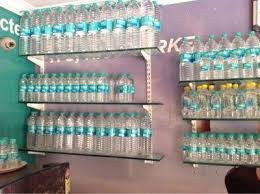Bisleri: (21, 84, 98, 96), (206, 51, 235, 61), (179, 55, 196, 64), (45, 26, 51, 38)
plastic: (18, 26, 31, 35), (34, 27, 42, 37)
